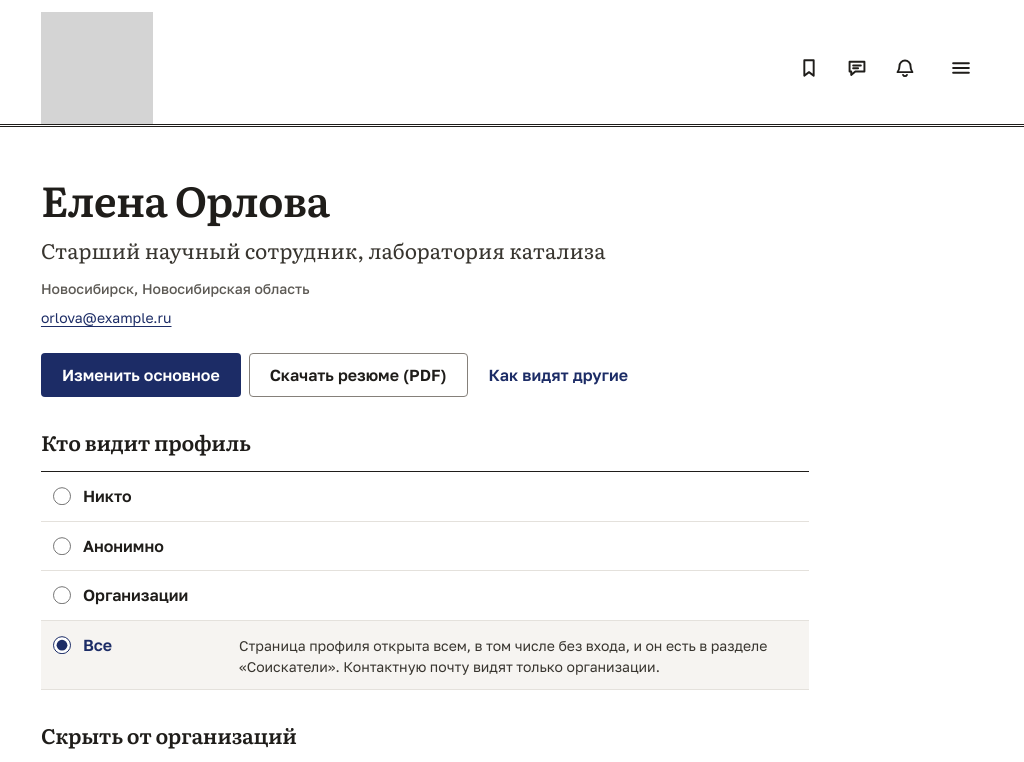
Test case: privacy panel › tells when saving failed
Click the radio button named "Никто" next to "Никто" at (62, 496), box [53,487,71,505]
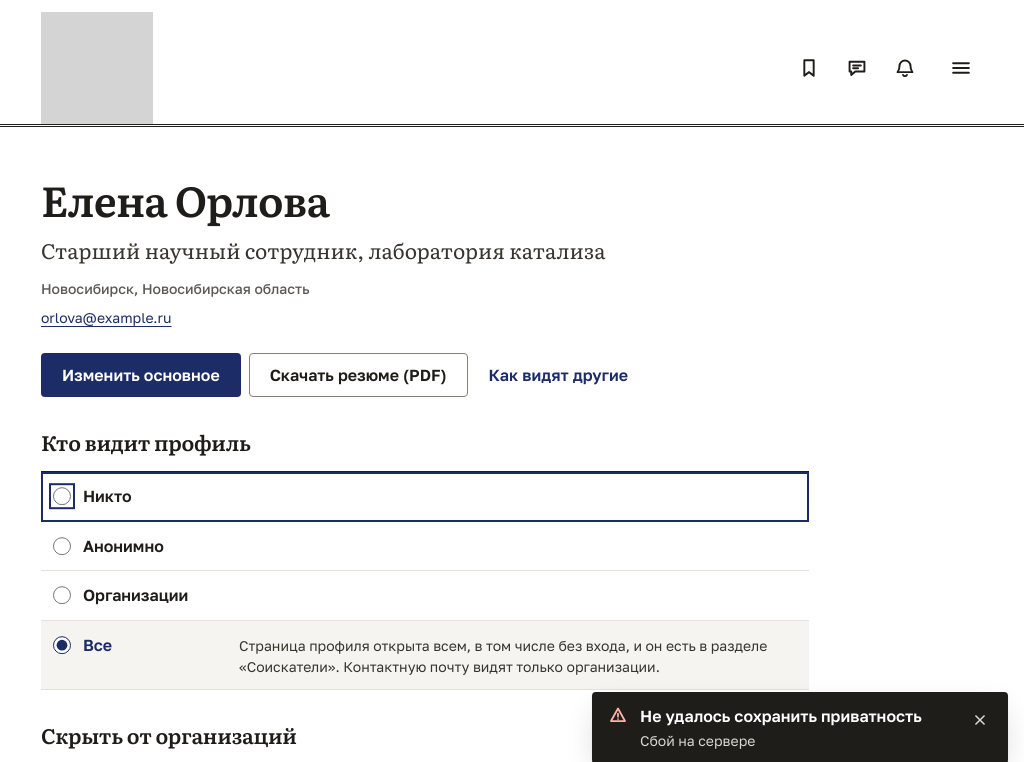
Now the text "Не удалось сохранить приватность" is shown, box [640,704,952,728]
Now the text "Сбой на сервере" is shown, box [640,732,755,749]
